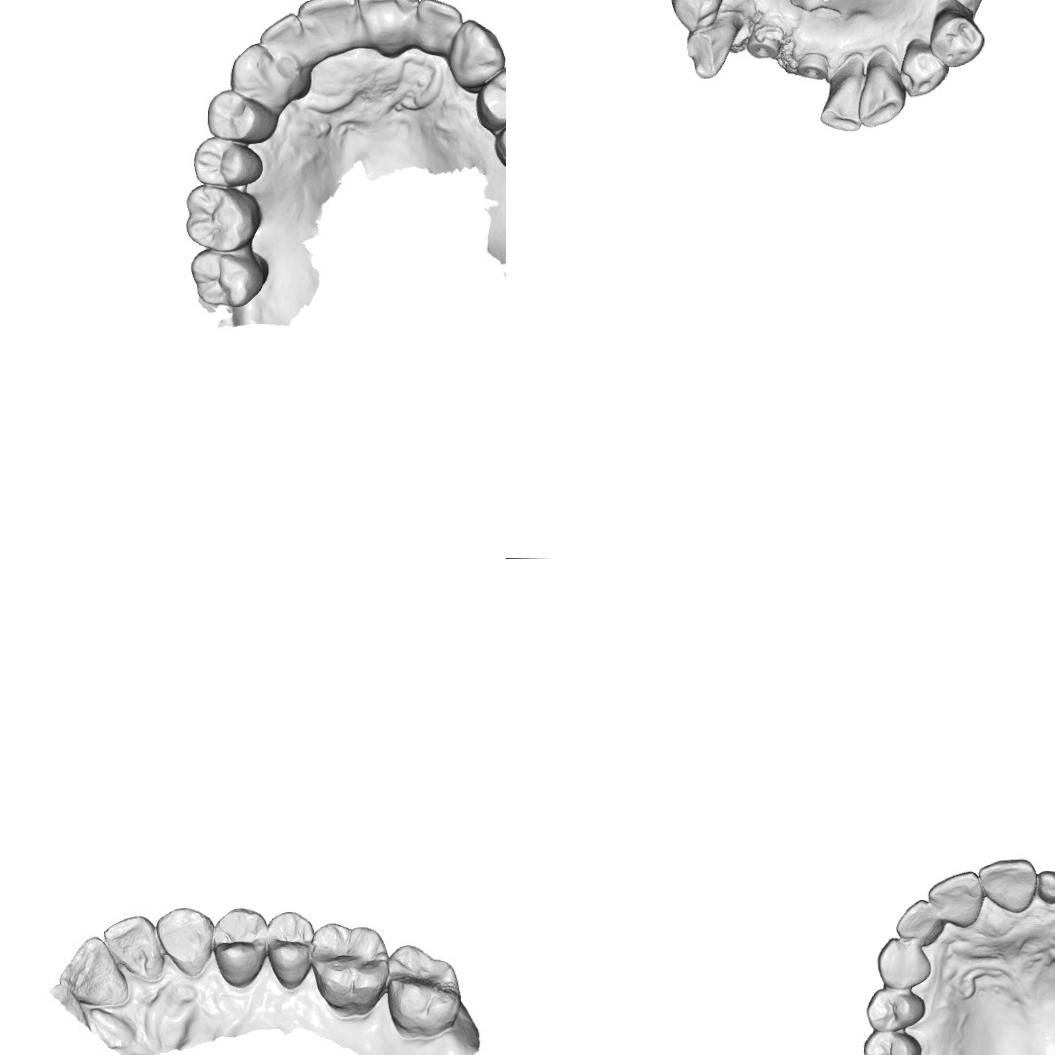canine: (445, 15, 506, 90), (158, 904, 215, 978), (856, 50, 908, 130), (228, 39, 288, 107), (684, 17, 740, 81), (875, 937, 932, 989)
implant: (795, 48, 832, 80), (747, 28, 784, 57)
incisor: (58, 934, 132, 1014), (816, 54, 870, 134), (102, 916, 167, 980), (354, 0, 422, 57), (293, 0, 361, 55), (976, 856, 1040, 914), (256, 10, 314, 72), (926, 869, 984, 928), (413, 0, 462, 62), (894, 898, 946, 946), (1035, 867, 1055, 904)
molar: (309, 916, 391, 1015), (386, 944, 466, 1040), (184, 182, 266, 254), (187, 249, 273, 310)
premolar: (215, 908, 270, 986), (204, 88, 279, 143), (190, 136, 265, 188), (926, 5, 986, 70), (268, 911, 314, 993), (900, 38, 951, 100), (865, 986, 927, 1034), (472, 64, 506, 135), (665, 0, 726, 35), (862, 1028, 922, 1055), (491, 109, 506, 170)
